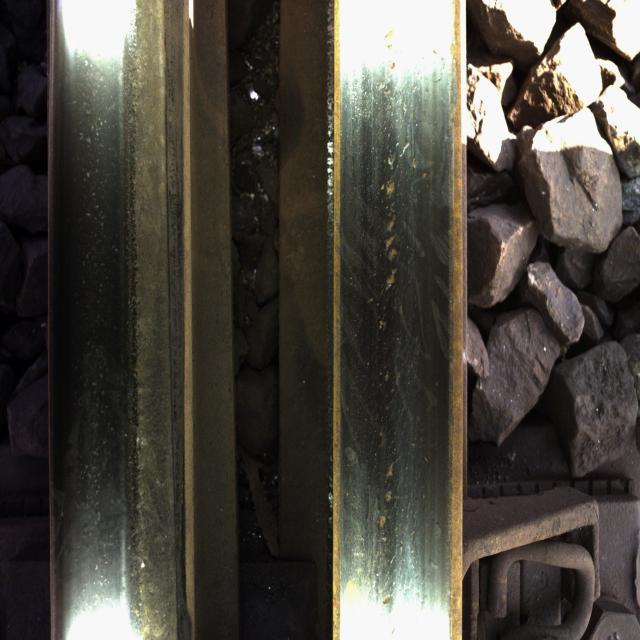scar: (355, 6, 415, 610)
